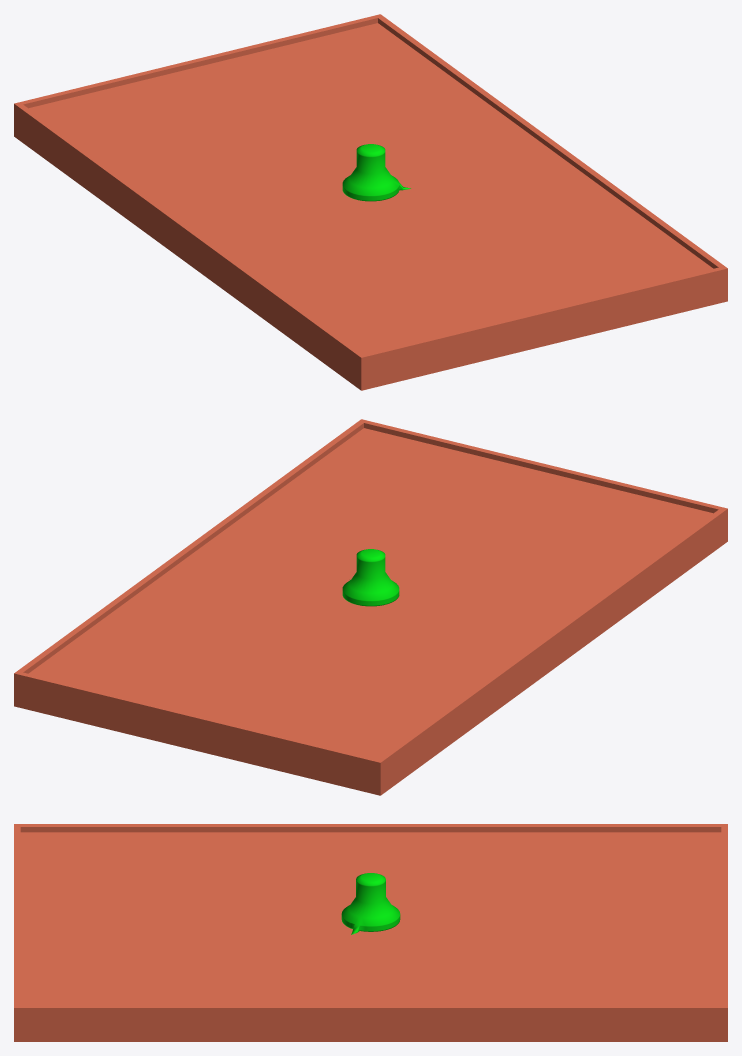
File: AetherOneGo.glb
The picture shows the model from 3 angles, top to bottom: view 1: azimuth 30°, elevation 25°; view 2: azimuth 150°, elevation 25°; view 3: azimuth 270°, elevation 25°; orthographic projection. The views are drawn at different scales.
Visible parts, largest first — view 1: DeviceBase, Knob; view 2: DeviceBase, Knob; view 3: DeviceBase, Knob.
Boxes of the visible parts, x1,y1,x2,y2 form: DeviceBase: (14,14,727,390); Knob: (342,144,410,201); DeviceBase: (14,419,727,795); Knob: (342,549,399,606); DeviceBase: (14,824,727,1041); Knob: (341,873,400,934).
Bounding box in the file's own units: 6.16 × 1.14 × 10.11.
